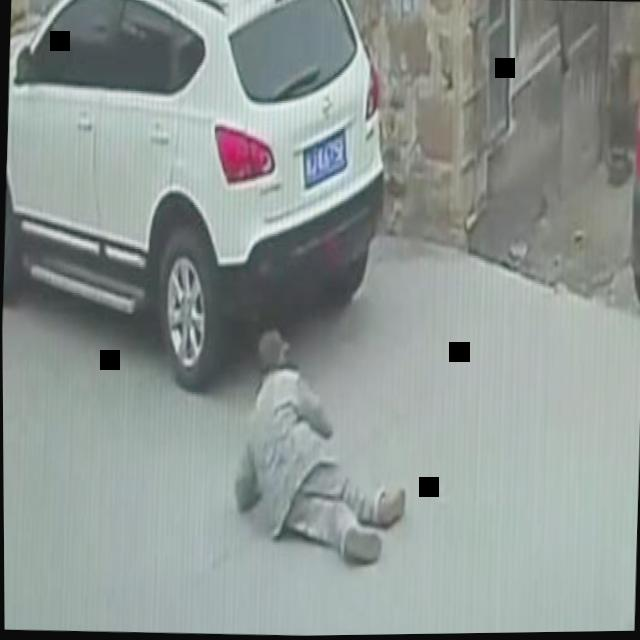Fall-Detected: (225, 317, 411, 577)
